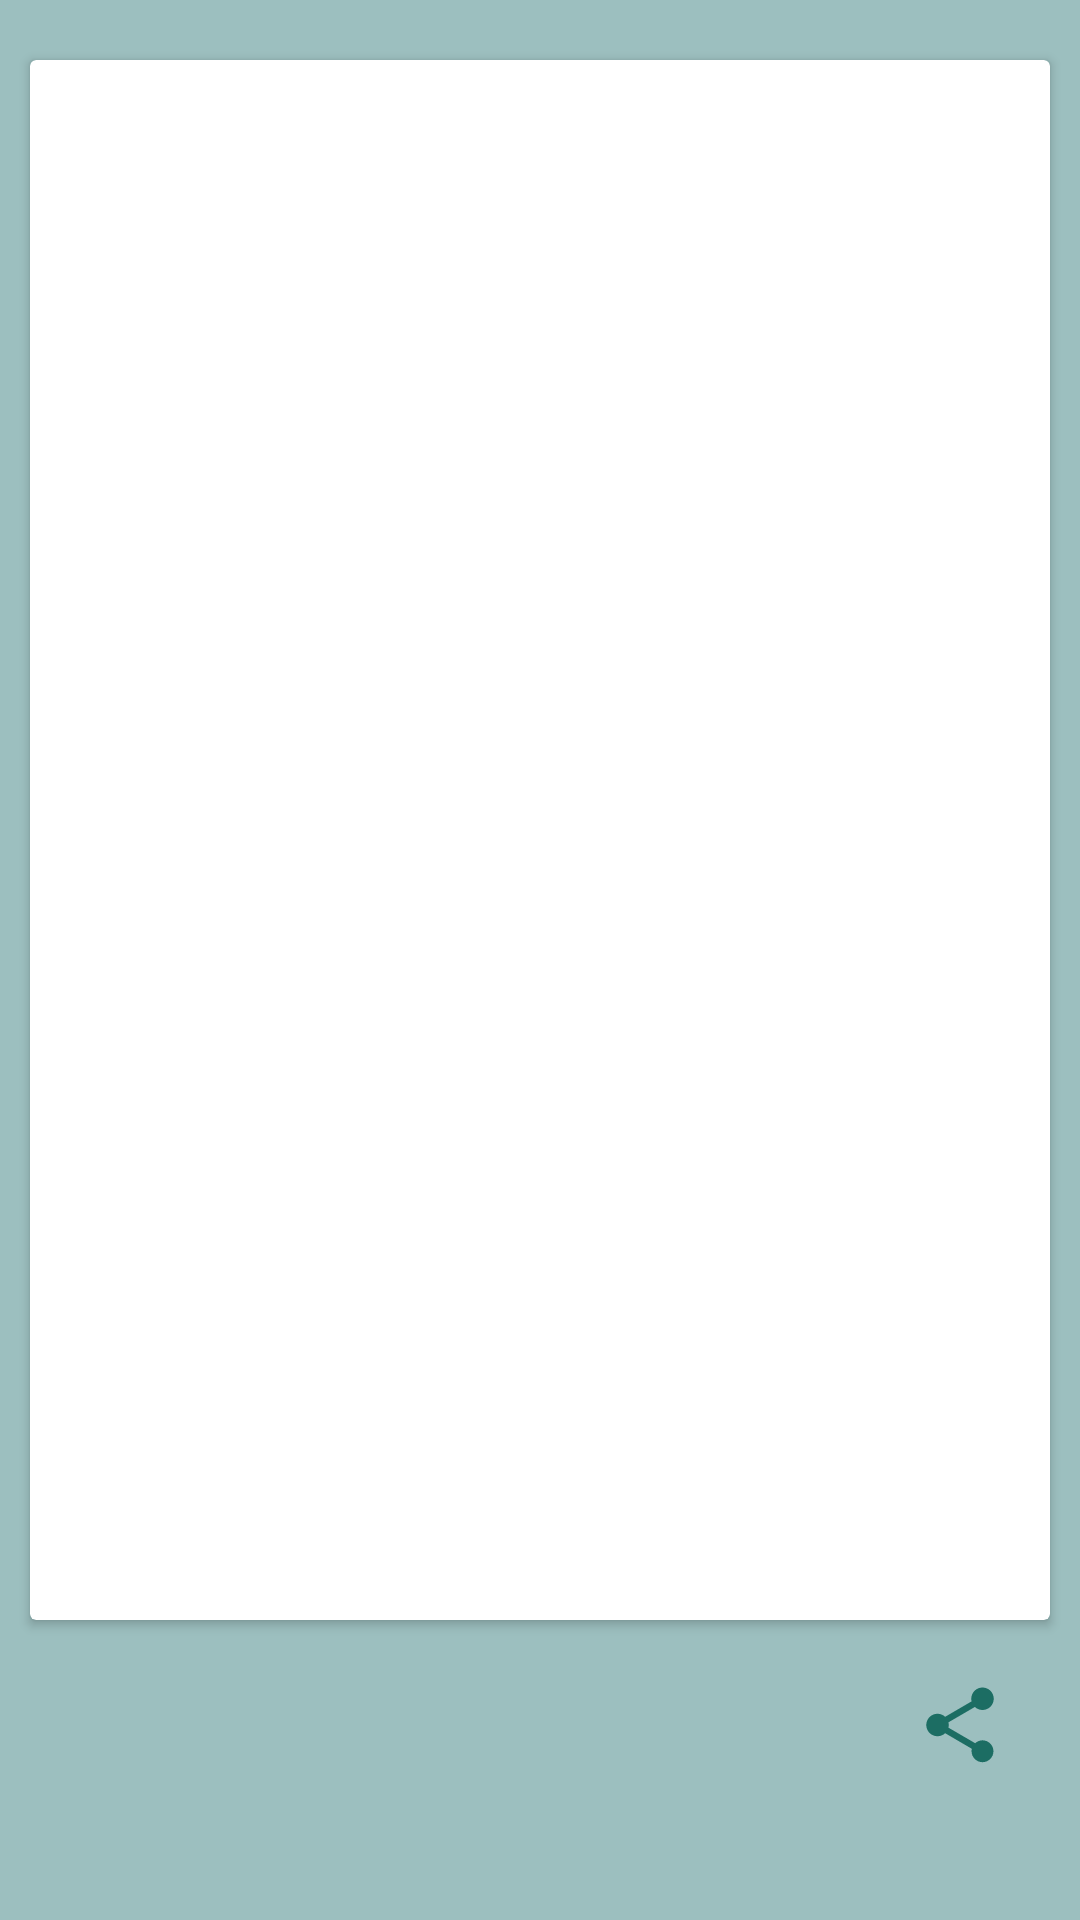

Where to tap for icons on this 1080w x 1920h app screen, as (x,y):
share: (960,1725)
